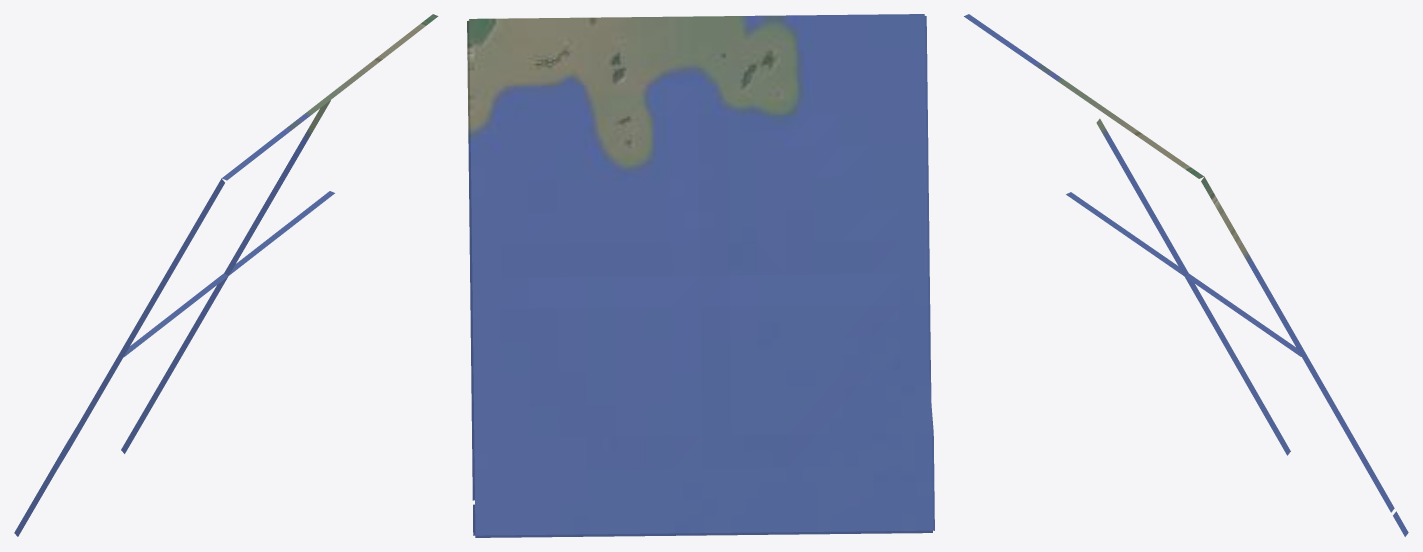
3 renders of one model, left to right at view 1: azimuth 30°, elevation 25°; view 2: azimuth 150°, elevation 25°; view 3: azimuth 270°, elevation 25°, orthographic. The views are drawn at different scales.
Size of the model in its own units: 39633 by 34996 by 34198.
Materials: 1 (1 with a texture image).
